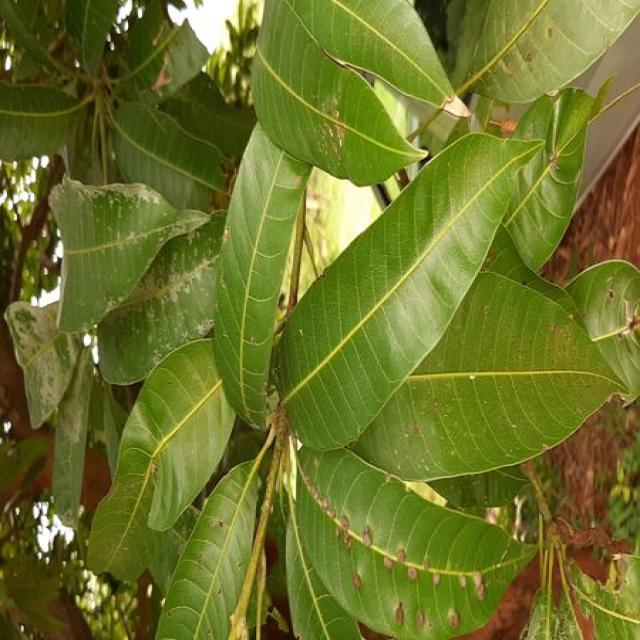Anthracnose: (2, 0, 638, 640)
mango: (2, 0, 638, 640)
